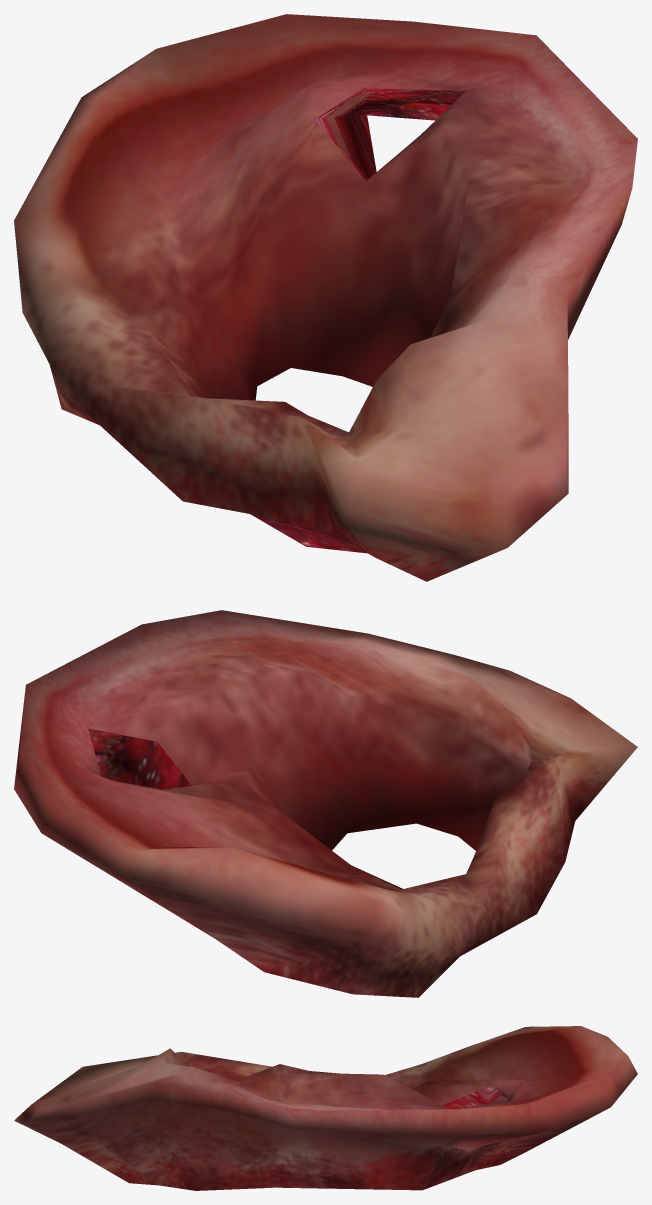
File: Ear_3_low.fbx
3 renders of one model, top to bottom at view 1: azimuth 30°, elevation 25°; view 2: azimuth 150°, elevation 25°; view 3: azimuth 270°, elevation 25°, orthographic. The views are drawn at different scales.
Parts seen in each view (by area): view 1: Ear_3_low; view 2: Ear_3_low; view 3: Ear_3_low.
Boxes of the visible parts, bbox=[...] form: Ear_3_low: bbox=[14, 14, 637, 581]; Ear_3_low: bbox=[14, 610, 637, 997]; Ear_3_low: bbox=[14, 1026, 637, 1190].
Bounding box in the file's own units: 0.0287 × 0.015 × 0.0457.
